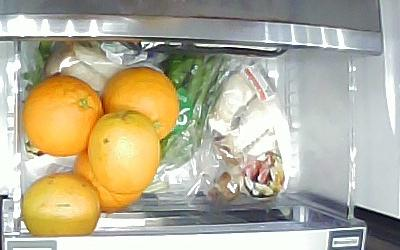orange: (22, 74, 102, 159), (88, 110, 161, 195), (103, 67, 179, 141), (20, 171, 99, 237), (76, 145, 141, 213)
